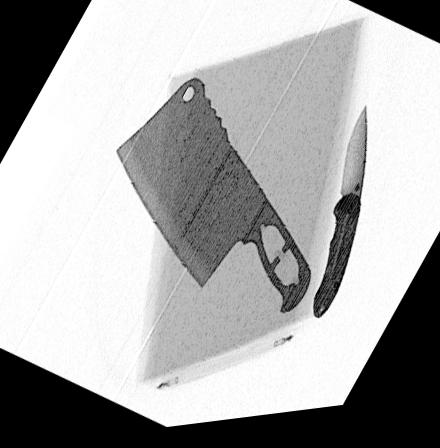Knife: (114, 82, 310, 322), (310, 113, 366, 328)
